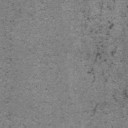oxide scale of temperature system: (89, 20, 118, 66), (86, 66, 96, 82), (89, 102, 99, 117), (101, 69, 108, 82), (122, 89, 128, 98), (112, 94, 118, 102), (106, 4, 112, 10), (86, 16, 90, 20)
